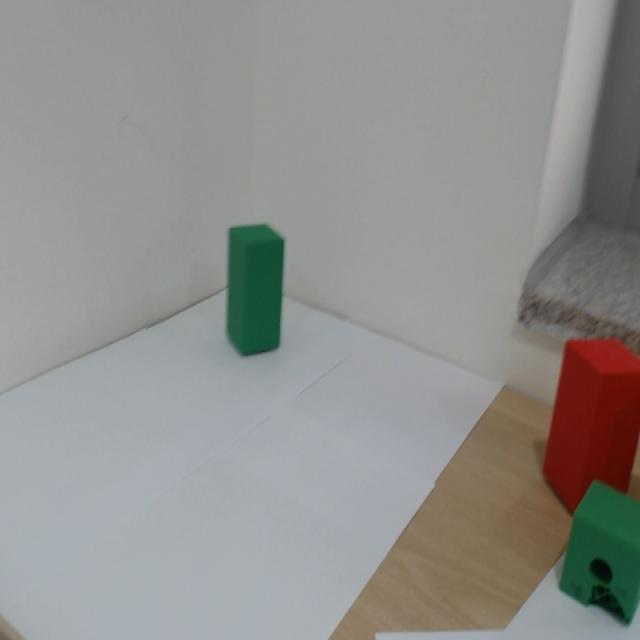cube: (204, 196, 318, 392)
